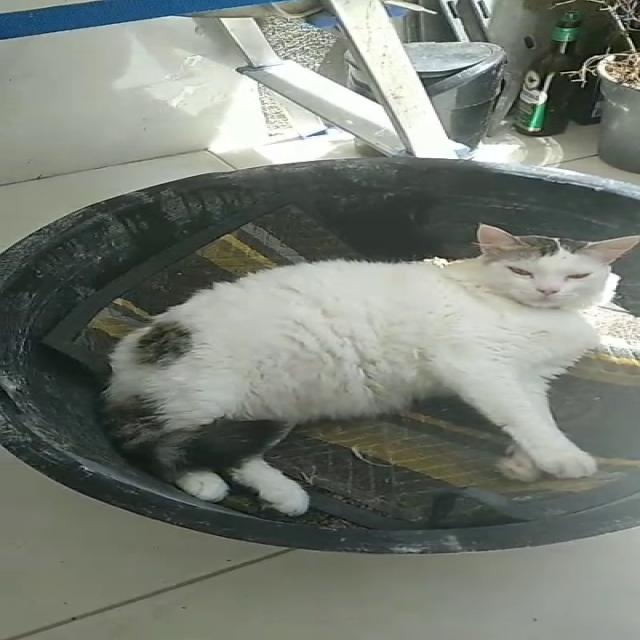Simba: (73, 219, 638, 521)
